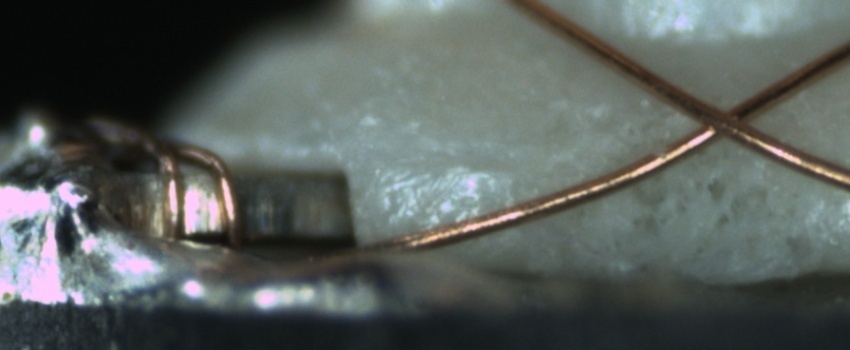CL: (670, 79, 780, 155)
DL: (381, 146, 528, 193)
TE: (126, 122, 247, 250)
